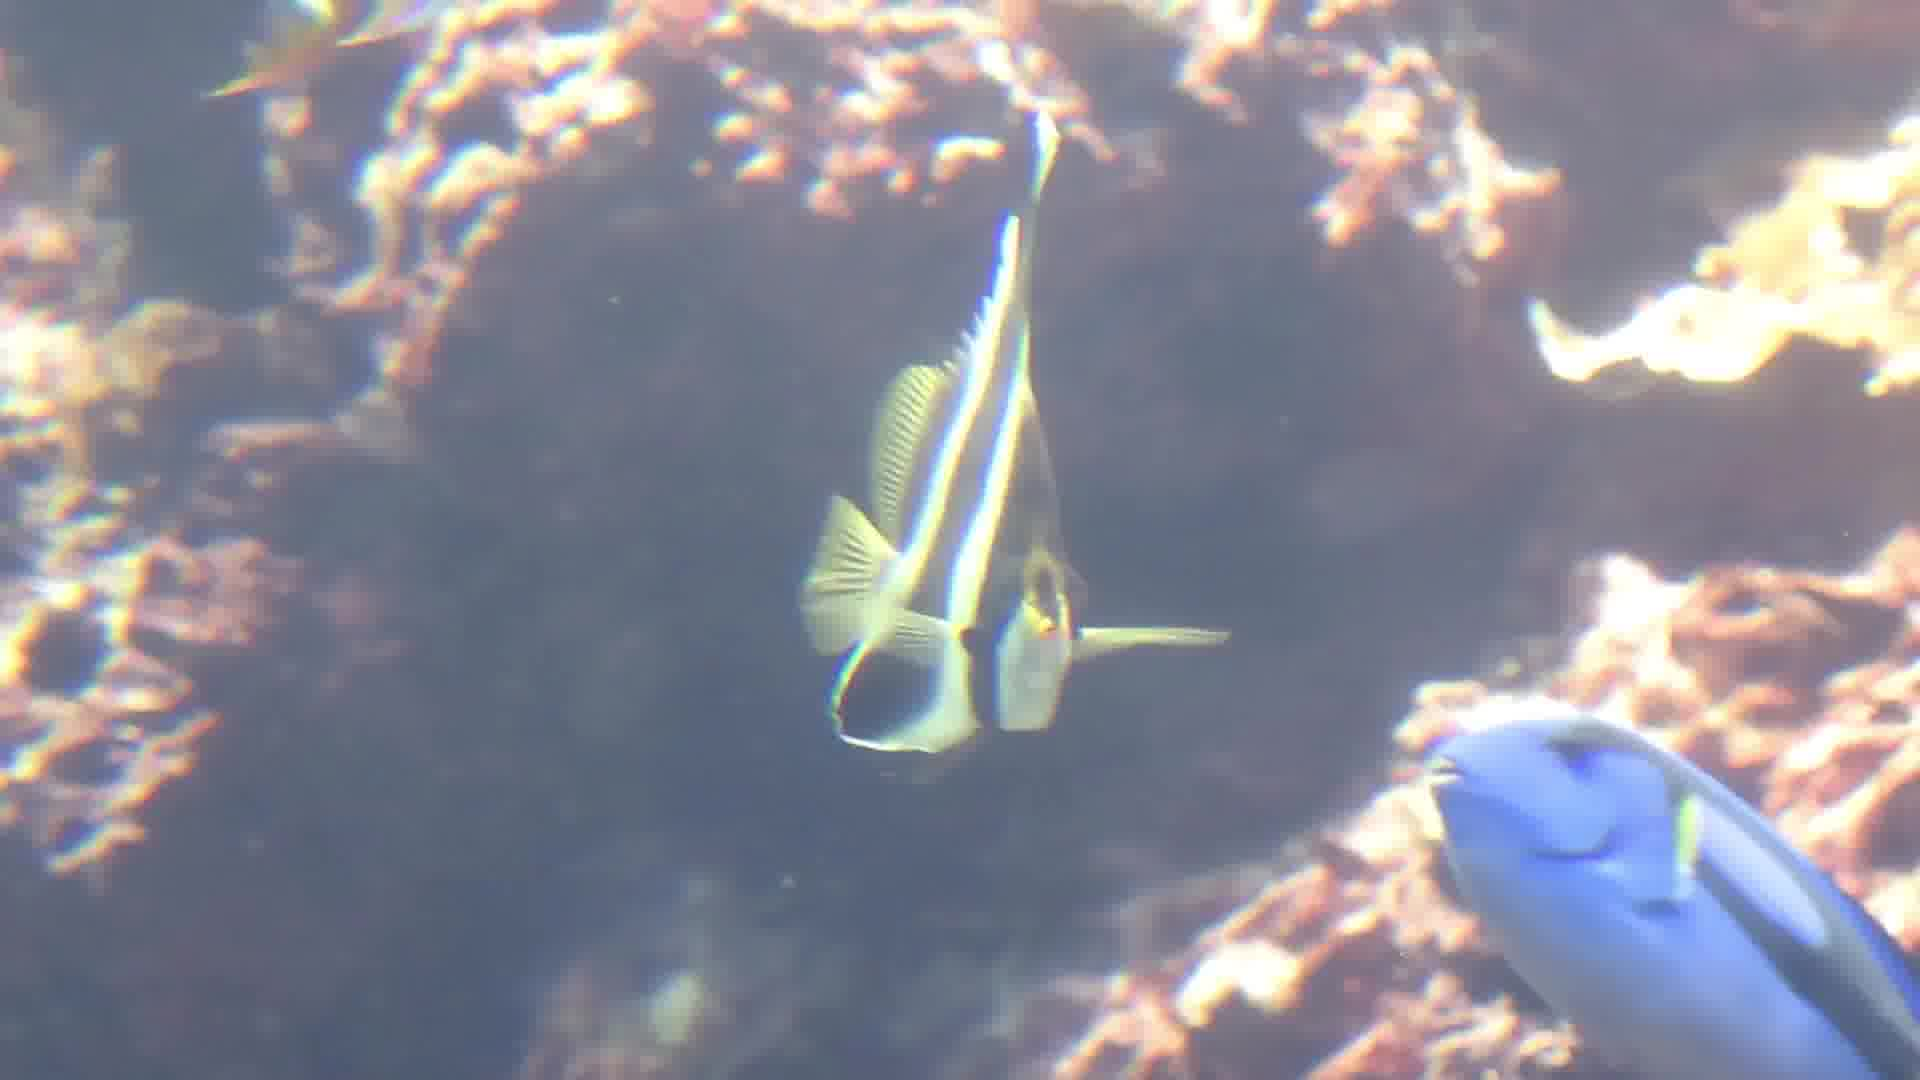Heniochus chrysostomus: (723, 124, 1300, 837)
